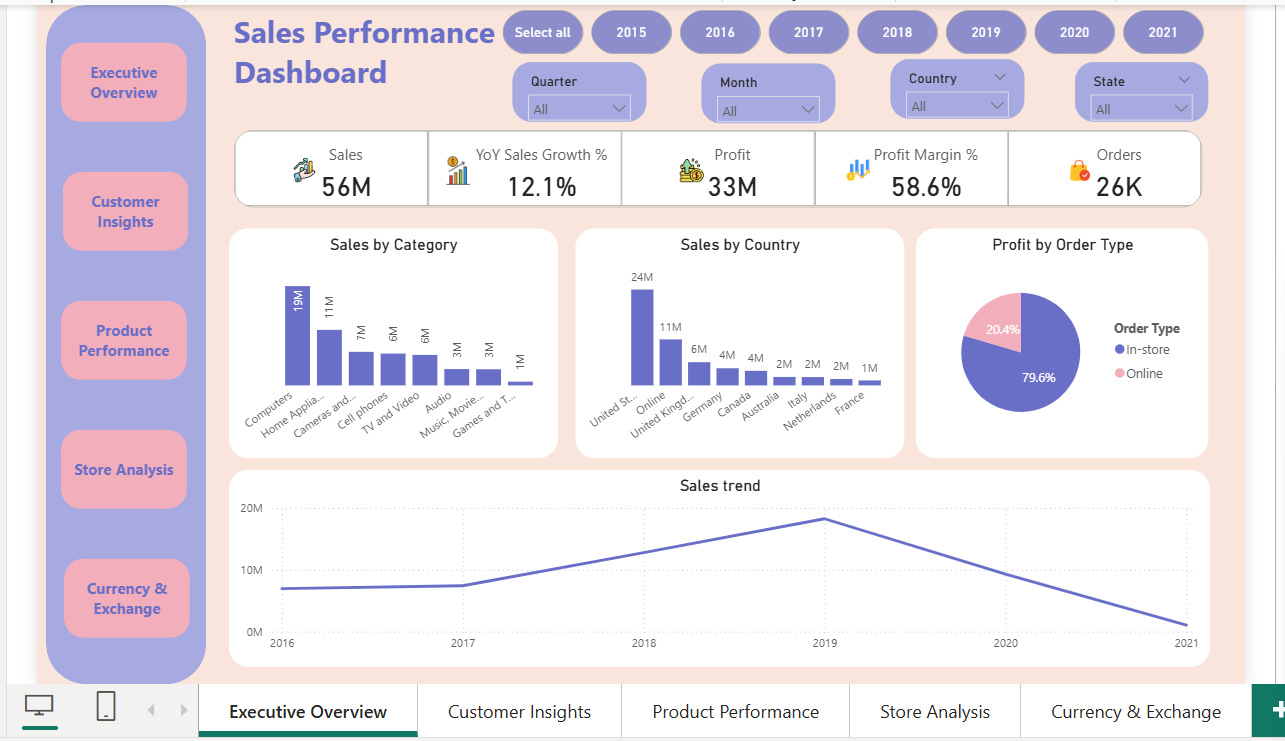

The dashboard page shown, as its layout file describes it:
{"tool":"powerbi","page":{"name":"Executive Overview","canvas":[1280,720],"ordinal":0},"visuals":[{"type":"cardVisual","fields":{"Data":["Sales.Total Sales (USD)","Sales.YoY Sales Growth %","Sales.Profit","Sales.Profit Margin %","Sales.Number of Orders"]},"box":[203.6,127.2,1040.3,92.3],"z":0},{"type":"actionButton","box":[28.4,177.4,133.6,84.3],"z":0,"group":"g2"},{"type":"textbox","box":[203.6,0,397.7,117.7],"z":1000},{"type":"actionButton","box":[26.7,314.3,133.6,84.3],"z":1000,"group":"g2"},{"type":"shape","box":[10,0,170,720.4],"z":2000,"group":"g1"},{"type":"actionButton","box":[26.7,451.3,133.6,84.3],"z":2000,"group":"g2"},{"type":"lineChart","title":"Sales trend","fields":{"Category":["Date.Date","Date.Year","Date.Quarter","Date.Month"],"Y":["Sales.Total Sales (USD)"]},"box":[203.6,493.1,1040.3,208.4],"z":2000},{"type":"columnChart","title":"Sales by Category","fields":{"Y":["Sales.Total Sales (USD)"],"Category":["Category.Category"]},"box":[203.6,237,348.3,243.4],"z":3000},{"type":"actionButton","box":[30.1,588.2,133.6,84.3],"z":3000,"group":"g2"},{"type":"columnChart","title":"Sales by Country","fields":{"Y":["Sales.Total Sales (USD)"],"Category":["Stores.Country"]},"box":[571,237,348.3,243.4],"z":4000},{"type":"pieChart","title":"Profit by Order Type","fields":{"Y":["Sales.Profit"],"Category":["Sales.Order Type"]},"box":[932.1,237,310.2,243.4],"z":5000},{"type":"group","id":"g1","title":"Group 3","box":[10,0,170,720.4],"z":6000},{"type":"slicer","fields":{"Values":["Stores.Country"]},"box":[905.1,57.3,142,63],"z":7000},{"type":"actionButton","box":[26.7,40.5,133.6,84.3],"z":7001,"group":"g3"},{"type":"group","id":"g2","title":"Group 1","box":[26.7,177.4,137,495.1],"z":7006,"group":"g3"},{"type":"group","id":"g3","title":"Group 2","box":[26.7,40.5,137,632],"z":7007,"group":"g1"},{"type":"slicer","fields":{"Values":["Stores.State"]},"box":[1100.7,60.4,141.6,63.6],"z":8000},{"type":"advancedSlicerVisual","fields":{"Values":["Date.Year"]},"box":[488.3,0,755.5,57.3],"z":9000},{"type":"slicer","fields":{"Values":["Date.Month"]},"box":[704.6,62,142,63],"z":10000},{"type":"slicer","fields":{"Values":["Date.Quarter"]},"box":[504.2,60.4,142,63],"z":11000}]}

Visuals, with their boxes on the page's 1280x720 design canvas (x1, y1, x2, y2). These are canvas units, not pixel positions in the 1285x741 screenshot, which may show the page scaled, cropped or inside an application window:
cardVisual - Sales.Total Sales (USD) x Sales.YoY Sales Growth %: [x1=204, y1=127, x2=1244, y2=220]
actionButton: [x1=28, y1=177, x2=162, y2=262]
textbox: [x1=204, y1=0, x2=601, y2=118]
actionButton: [x1=27, y1=314, x2=160, y2=399]
shape: [x1=10, y1=0, x2=180, y2=720]
actionButton: [x1=27, y1=451, x2=160, y2=536]
"Sales trend" lineChart: [x1=204, y1=493, x2=1244, y2=702]
"Sales by Category" columnChart: [x1=204, y1=237, x2=552, y2=480]
actionButton: [x1=30, y1=588, x2=164, y2=672]
"Sales by Country" columnChart: [x1=571, y1=237, x2=919, y2=480]
"Profit by Order Type" pieChart: [x1=932, y1=237, x2=1242, y2=480]
"Group 3" group: [x1=10, y1=0, x2=180, y2=720]
slicer - Stores.Country: [x1=905, y1=57, x2=1047, y2=120]
actionButton: [x1=27, y1=40, x2=160, y2=125]
"Group 1" group: [x1=27, y1=177, x2=164, y2=672]
"Group 2" group: [x1=27, y1=40, x2=164, y2=672]
slicer - Stores.State: [x1=1101, y1=60, x2=1242, y2=124]
advancedSlicerVisual - Date.Year: [x1=488, y1=0, x2=1244, y2=57]
slicer - Date.Month: [x1=705, y1=62, x2=847, y2=125]
slicer - Date.Quarter: [x1=504, y1=60, x2=646, y2=123]
